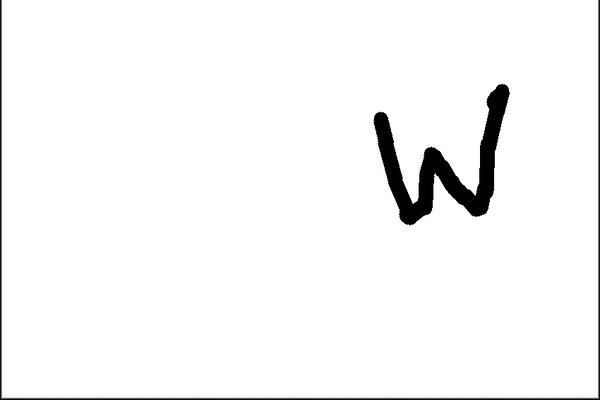w: (341, 70, 542, 241)
